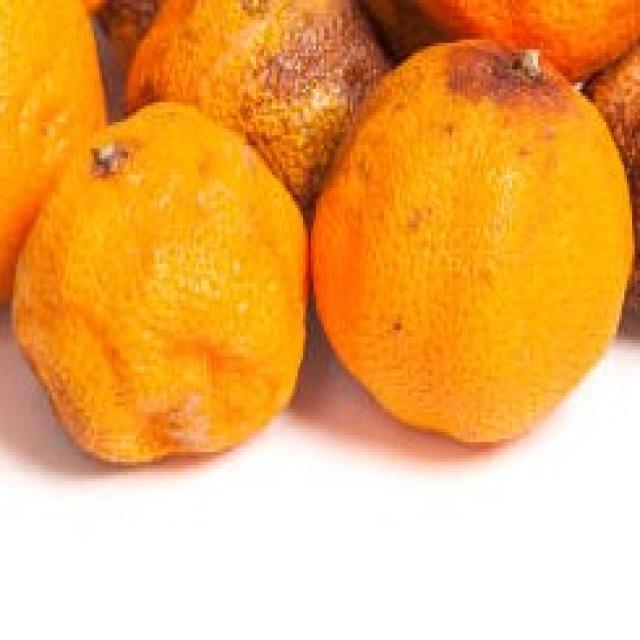overripe: (314, 29, 636, 453), (7, 100, 312, 474)
